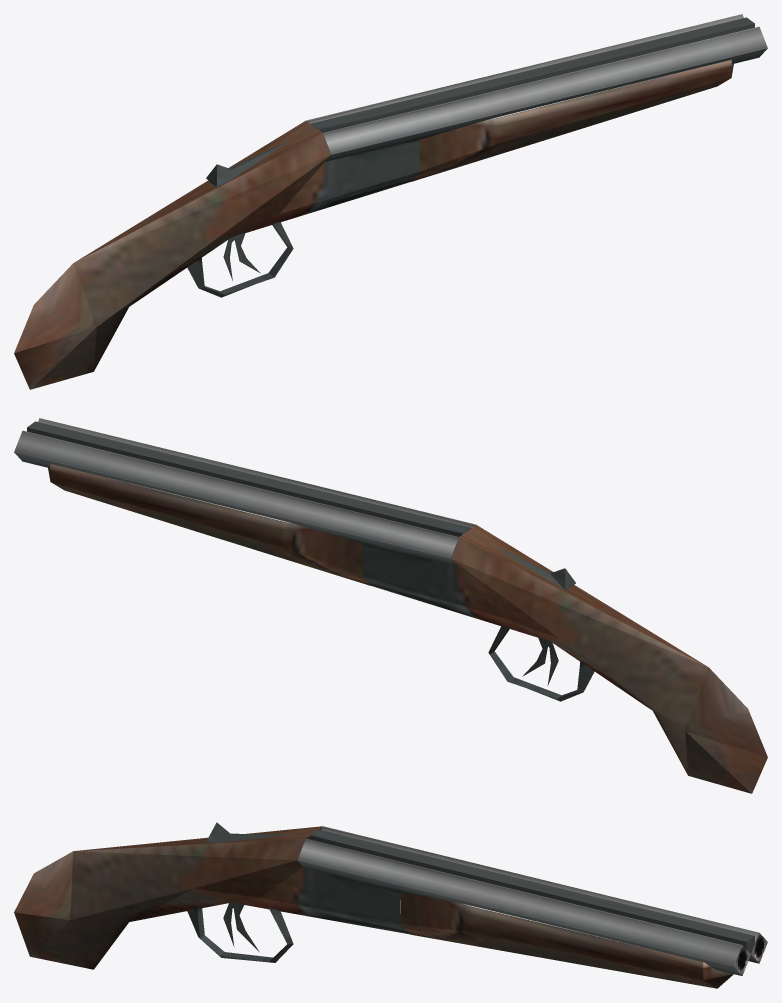
The model's file is shotgun.glb.
3 views of the same model, one above another, from view 1: azimuth 30°, elevation 25°; view 2: azimuth 150°, elevation 25°; view 3: azimuth 330°, elevation 25° (orthographic).
Visible parts, largest first — view 1: Body.002, HandGaurd&Barrel.001, Trigger&Trigger.001; view 2: Body.002, HandGaurd&Barrel.001, Trigger&Trigger.001; view 3: HandGaurd&Barrel.001, Body.002, Trigger&Trigger.001.
Boxes of the visible parts, box(x1,y1,x2,y2) form: Body.002: box(14, 120, 419, 389); HandGaurd&Barrel.001: box(306, 14, 767, 181); Trigger&Trigger.001: box(206, 142, 287, 280); Body.002: box(362, 524, 767, 793); HandGaurd&Barrel.001: box(14, 418, 475, 585); Trigger&Trigger.001: box(494, 546, 575, 685); HandGaurd&Barrel.001: box(297, 826, 767, 988); Body.002: box(14, 826, 410, 969); Trigger&Trigger.001: box(206, 822, 286, 952).
Bounding box in the file's own units: 1.86 × 0.4668 × 0.1489.
Materials: 3 (3 with a texture image).
